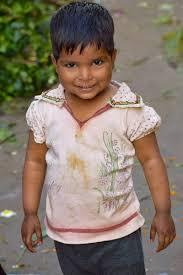Human: (23, 3, 178, 275)
